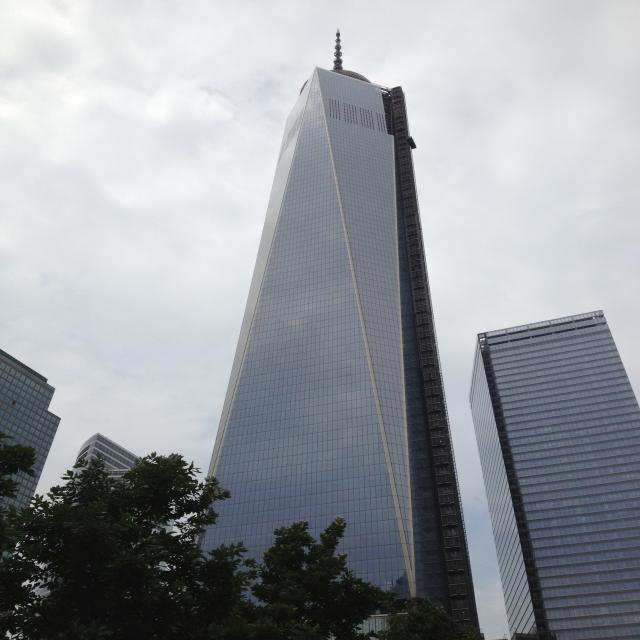WTC: (204, 24, 456, 482)
